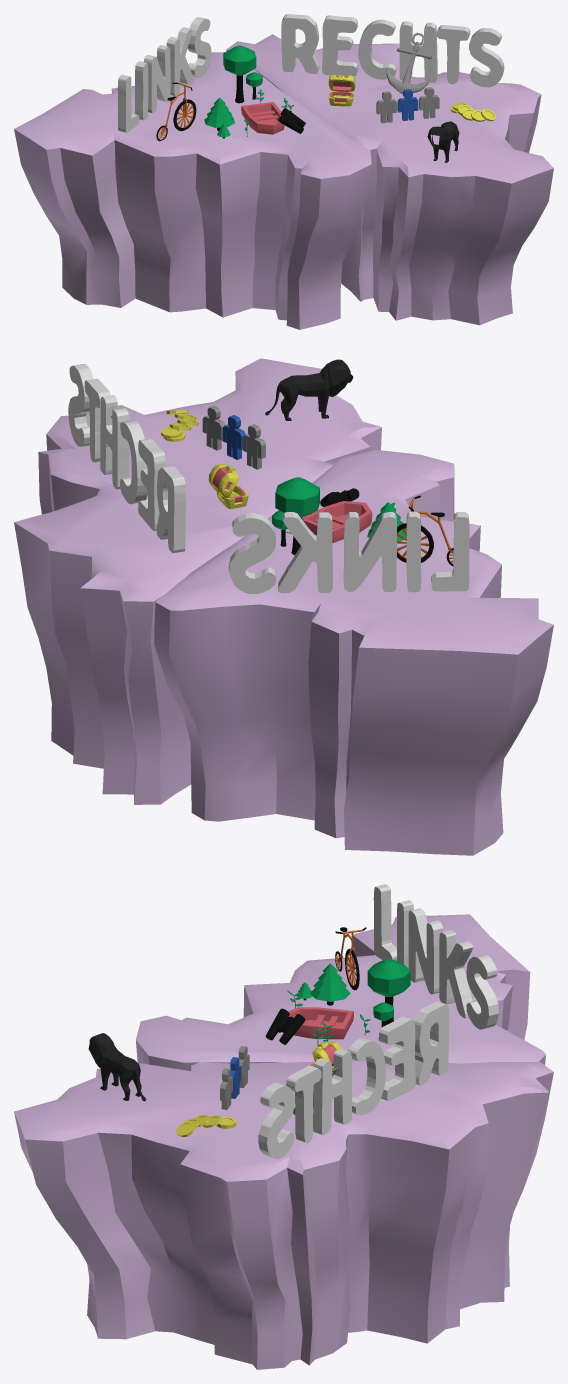
Rendered from 010-left_right.glb.
3 views of the same model, one above another, from view 1: azimuth 30°, elevation 25°; view 2: azimuth 150°, elevation 25°; view 3: azimuth 270°, elevation 25° (orthographic). The views are drawn at different scales.
Parts seen in each view (by area): view 1: GEO.Belgium.L, GEO.Belgium.R; view 2: GEO.Belgium.L, GEO.Belgium.R; view 3: GEO.Belgium.R, GEO.Belgium.L.
Boxes of the visible parts, x1,y1,x2,y2 form: GEO.Belgium.L: (14,17,371,329); GEO.Belgium.R: (226,14,553,325); GEO.Belgium.L: (154,450,553,855); GEO.Belgium.R: (14,358,381,804); GEO.Belgium.R: (14,1001,553,1369); GEO.Belgium.L: (136,884,545,1070).
Size of what is drawn, in the model's own units: 1.73 by 0.8576 by 1.48.
